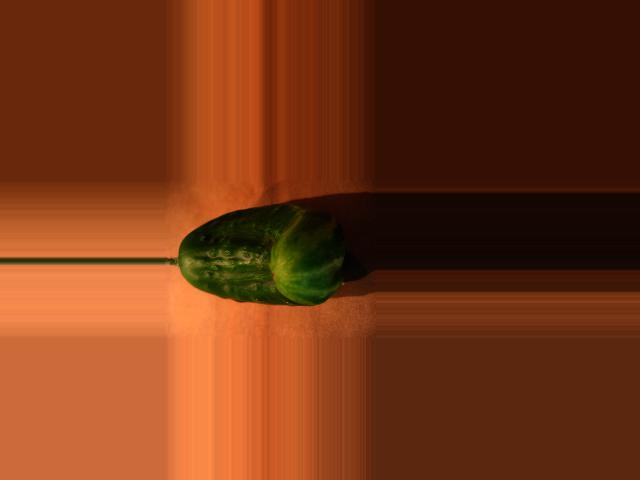cucumber: (177, 204, 344, 307)
